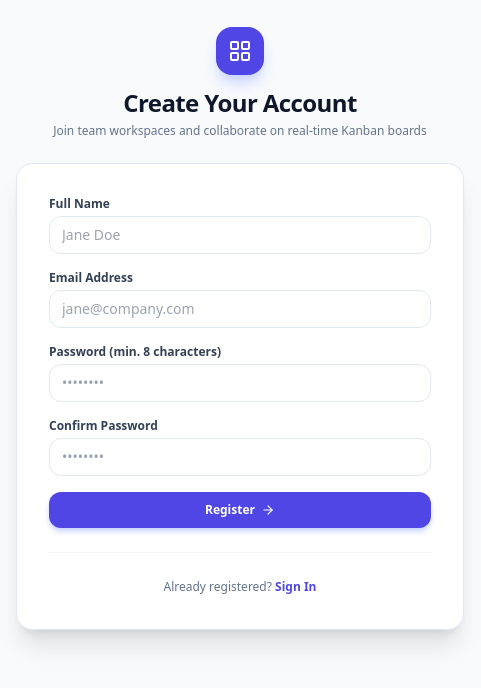
Test: Frontend Component & Store Tests › validates password matching on RegisterPage
The width and height of the screenshot is (481, 688).
Type "Test User" into the field with placeholder "Jane Doe" at {"x": 240, "y": 234}, box [49,216,431,254]
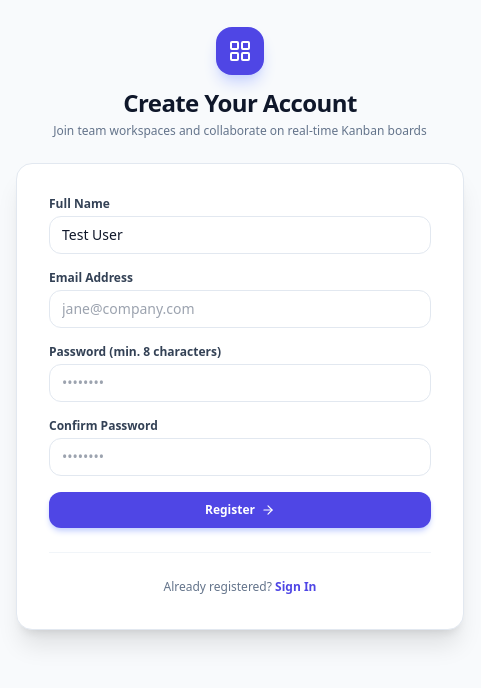
Type "test@example.com" into the field with placeholder "jane@company.com" at {"x": 240, "y": 308}, box [49,290,431,328]
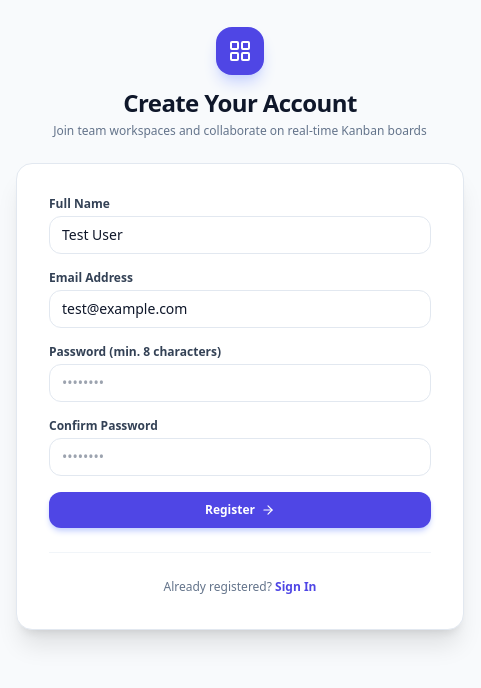
Type "Password123!" into the password field with placeholder "••••••••" below "Password (min. 8 characters)" at {"x": 240, "y": 382}, box [49,364,431,402]
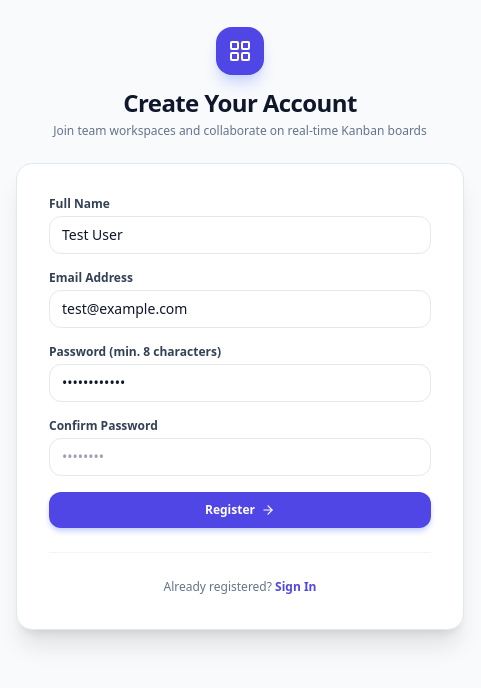
Type "MismatchedPassword" into the password field with placeholder "••••••••" at {"x": 240, "y": 456}, box [49,438,431,476]
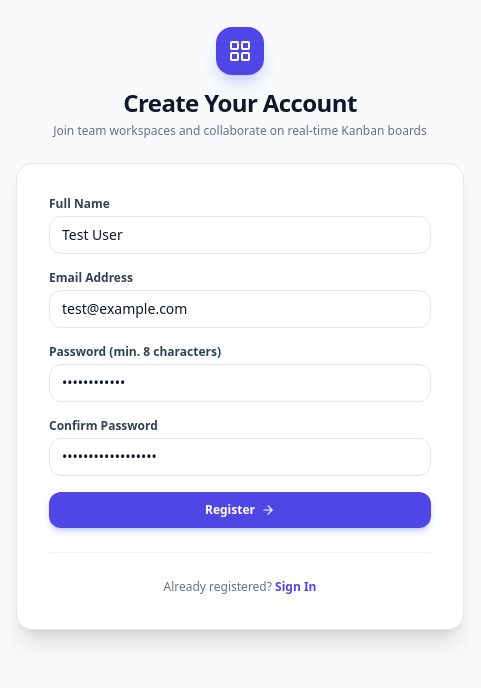
Click the button "Register" at {"x": 240, "y": 510}, box [49,492,431,528]
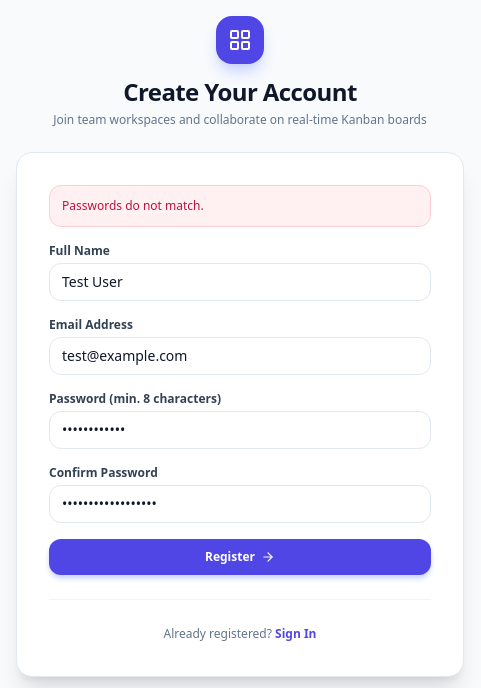
Now the text "Passwords do not match." is shown, box [49,185,431,227]
